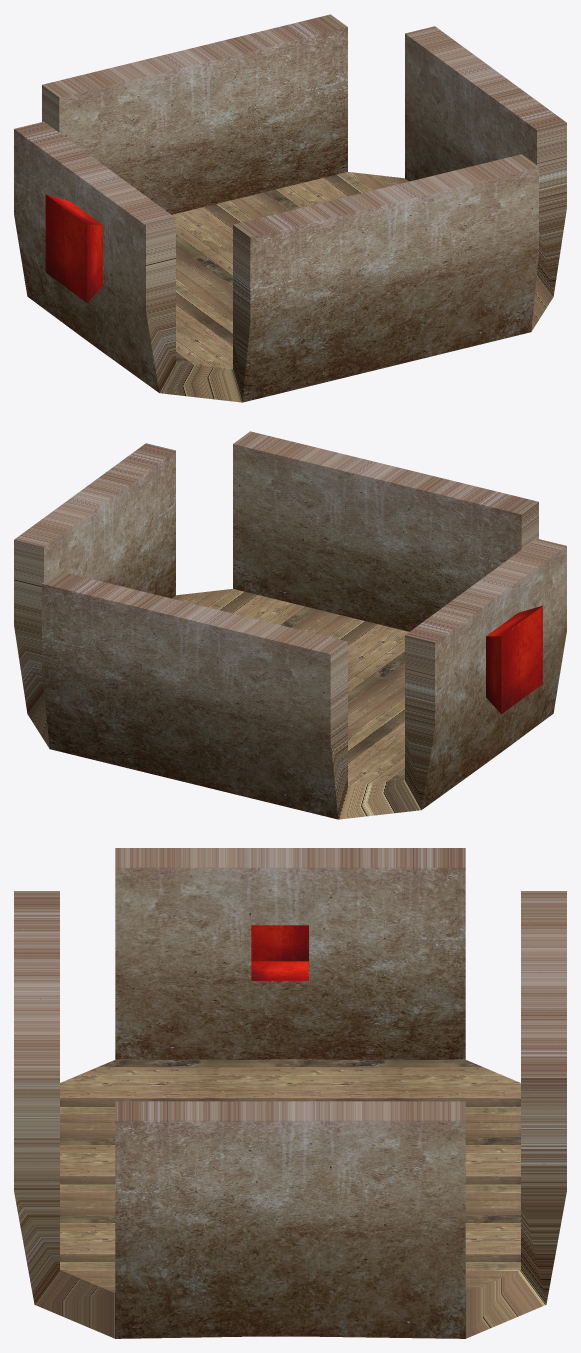
File: sala_principal.FBX
3 views of the same model, one above another, from view 1: azimuth 30°, elevation 25°; view 2: azimuth 150°, elevation 25°; view 3: azimuth 270°, elevation 25° (orthographic). The views are drawn at different scales.
Parts seen in each view (by area): view 1: habitacion_230cm; view 2: habitacion_230cm; view 3: habitacion_230cm.
Part boxes in pixels (<box>): habitacion_230cm: <box>14,14,566,402</box>; habitacion_230cm: <box>14,431,566,819</box>; habitacion_230cm: <box>14,848,566,1338</box>.
Size of the model in its own units: 287 by 107 by 236.
